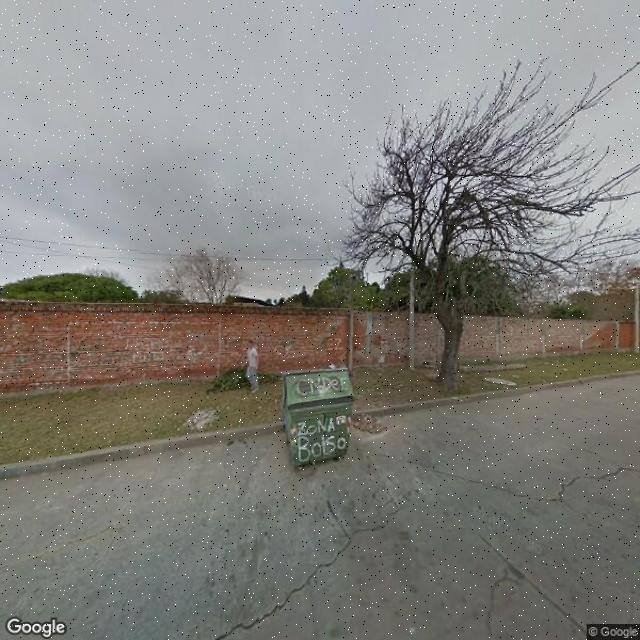garbage container: (276, 362, 365, 488)
